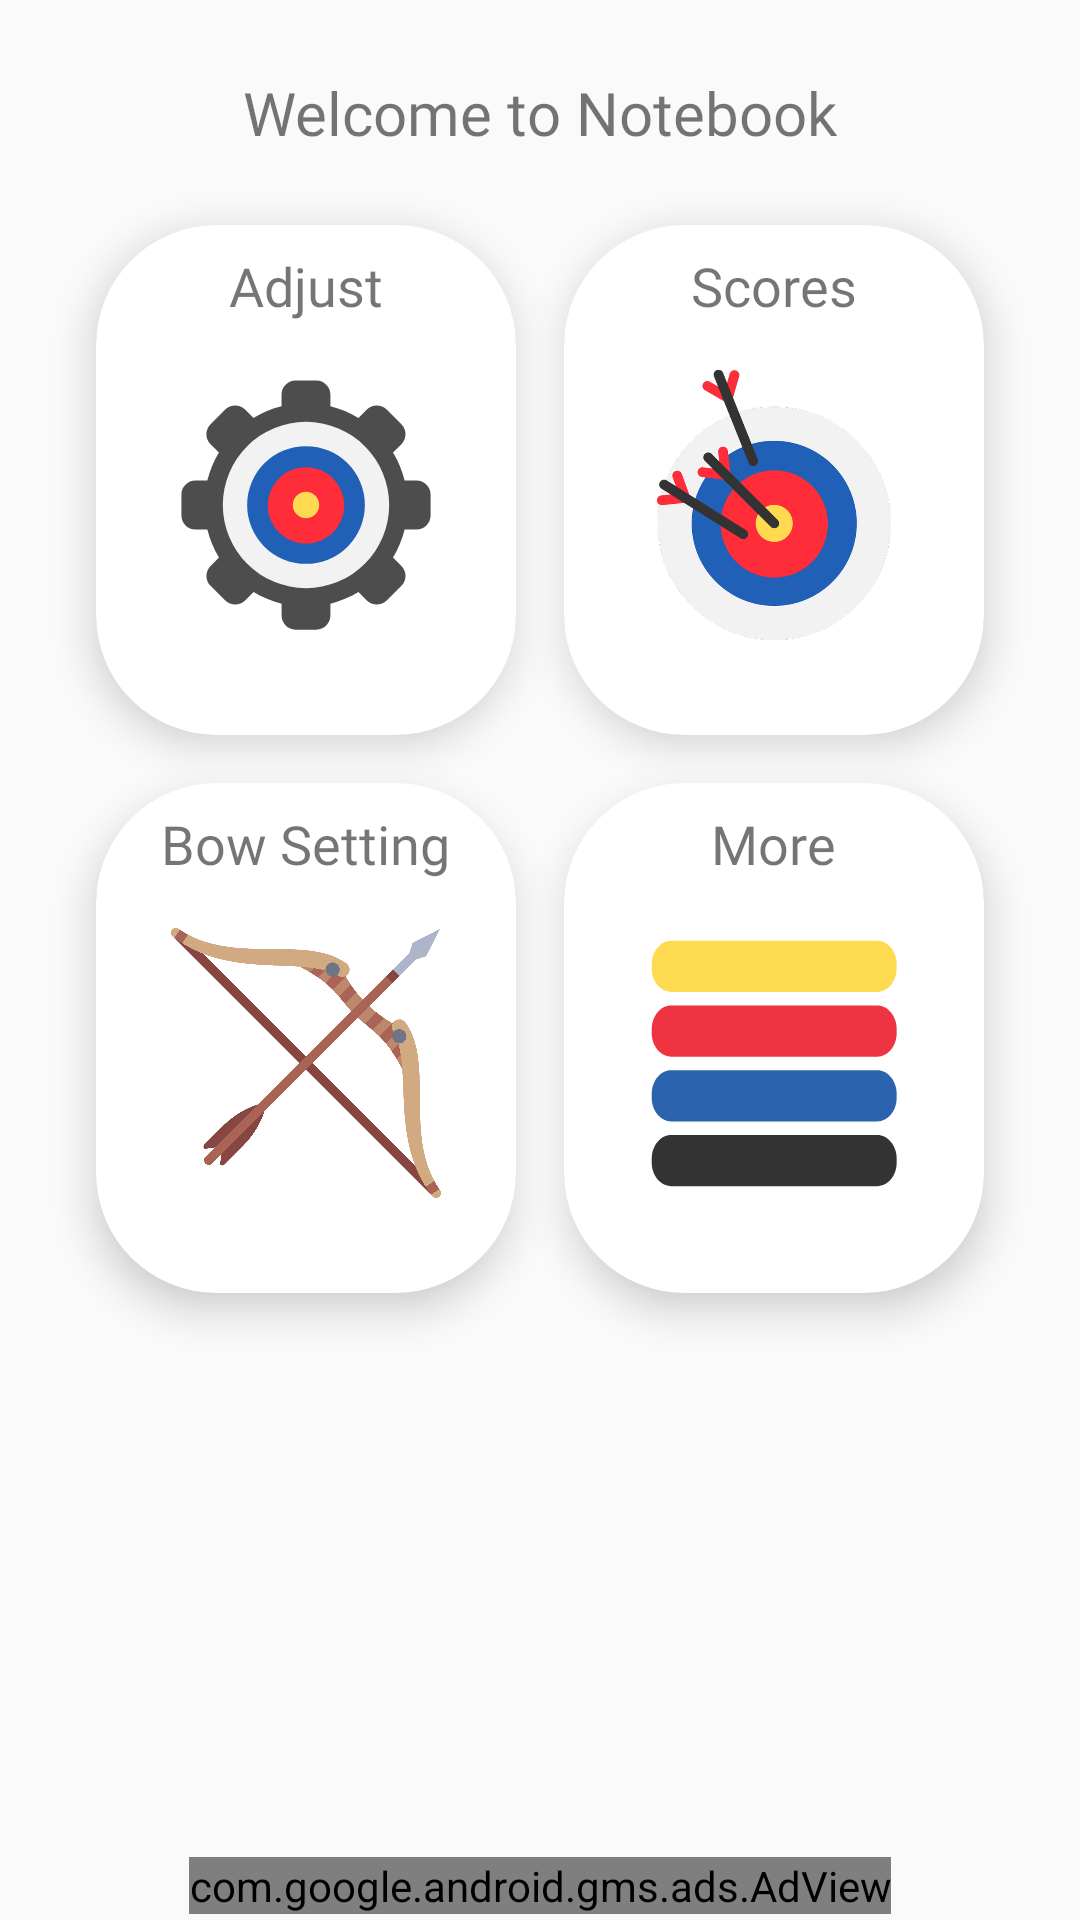

Screen size 1080 x 1920. Icon name, then its box in pixels as (x1, y1, x2, y2):
bow classic brown: (171, 928, 441, 1198)
gear archer: (181, 380, 431, 630)
taget and arrow: (657, 370, 890, 640)
